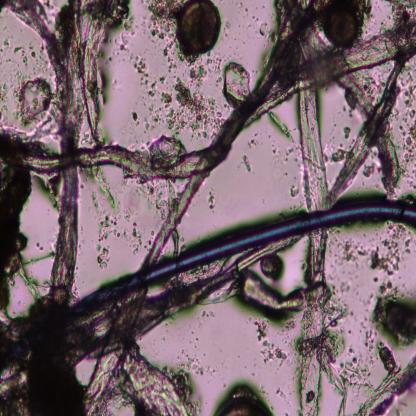Background material: (0, 294, 87, 416), (0, 141, 46, 309), (357, 344, 416, 415), (160, 80, 225, 138), (234, 274, 306, 318), (372, 280, 416, 350), (321, 328, 366, 395), (9, 68, 60, 126), (368, 223, 416, 276), (272, 0, 374, 21), (148, 0, 180, 66), (399, 66, 416, 184), (82, 0, 134, 38), (249, 320, 289, 363), (95, 212, 123, 266), (123, 209, 150, 256), (178, 51, 219, 80), (132, 53, 158, 96), (224, 63, 252, 102), (183, 349, 217, 380), (256, 250, 287, 282), (0, 74, 16, 131), (334, 238, 366, 266), (13, 43, 49, 67), (269, 110, 294, 141), (378, 343, 398, 376), (133, 106, 159, 129), (326, 144, 352, 165), (109, 32, 130, 54), (246, 134, 264, 153), (378, 280, 399, 294), (242, 156, 252, 177), (207, 190, 216, 212), (339, 280, 350, 294), (289, 186, 299, 198), (258, 25, 264, 37), (5, 43, 11, 48)
Cellulose filter fibre: (130, 18, 416, 253), (0, 1, 82, 309), (245, 25, 416, 130), (328, 63, 404, 202), (17, 143, 240, 182), (85, 291, 144, 414), (299, 231, 326, 415), (121, 348, 188, 415), (297, 84, 330, 211), (82, 15, 110, 142)
Diatom: (178, 1, 222, 54), (326, 5, 360, 47), (215, 393, 272, 416)
Microfibre: (74, 199, 416, 314)
